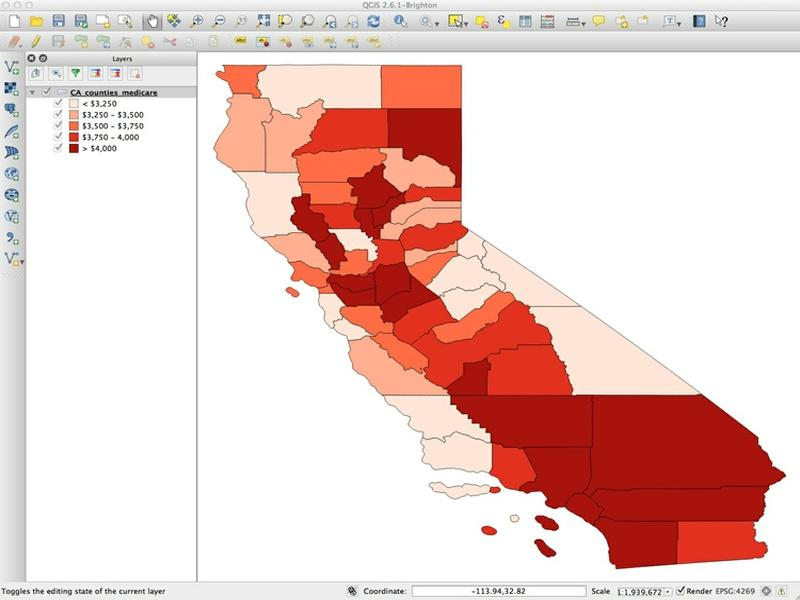legend: (51, 85, 167, 158)
